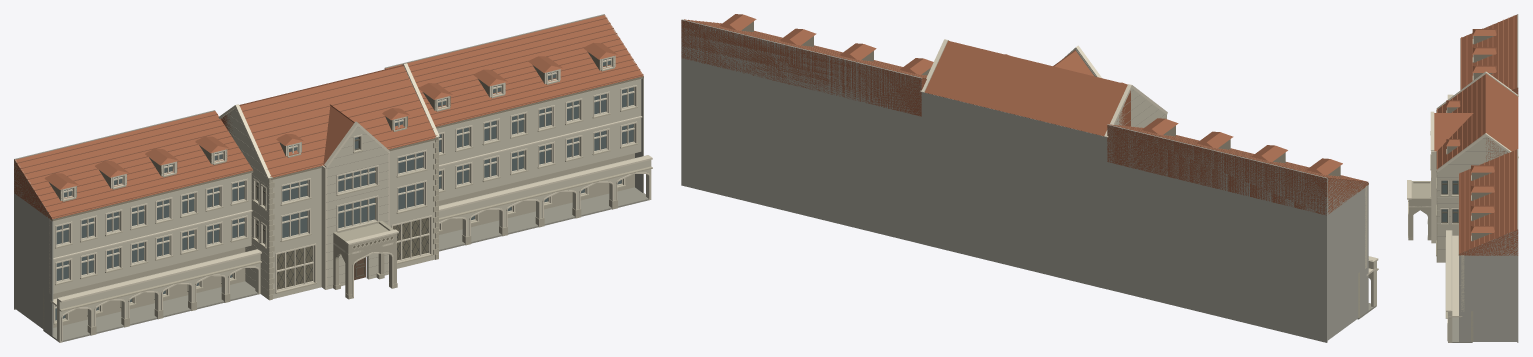
File: changning-mctyeire-east-building-lod.glb
The picture shows the model from 3 angles, left to right: view 1: azimuth 30°, elevation 25°; view 2: azimuth 150°, elevation 25°; view 3: azimuth 270°, elevation 25°; orthographic projection. The views are drawn at different scales.
Visible parts, largest first — view 1: 中西女中东楼（五一楼）院落立面; view 2: 中西女中东楼（五一楼）院落立面; view 3: 中西女中东楼（五一楼）院落立面.
Part boxes in pixels (x1,y1,x2,y2): 中西女中东楼（五一楼）院落立面: [14, 14, 652, 342]; 中西女中东楼（五一楼）院落立面: [681, 14, 1378, 342]; 中西女中东楼（五一楼）院落立面: [1407, 14, 1518, 342].
Size of the model in its own units: 70.69 by 19.61 by 15.45.
